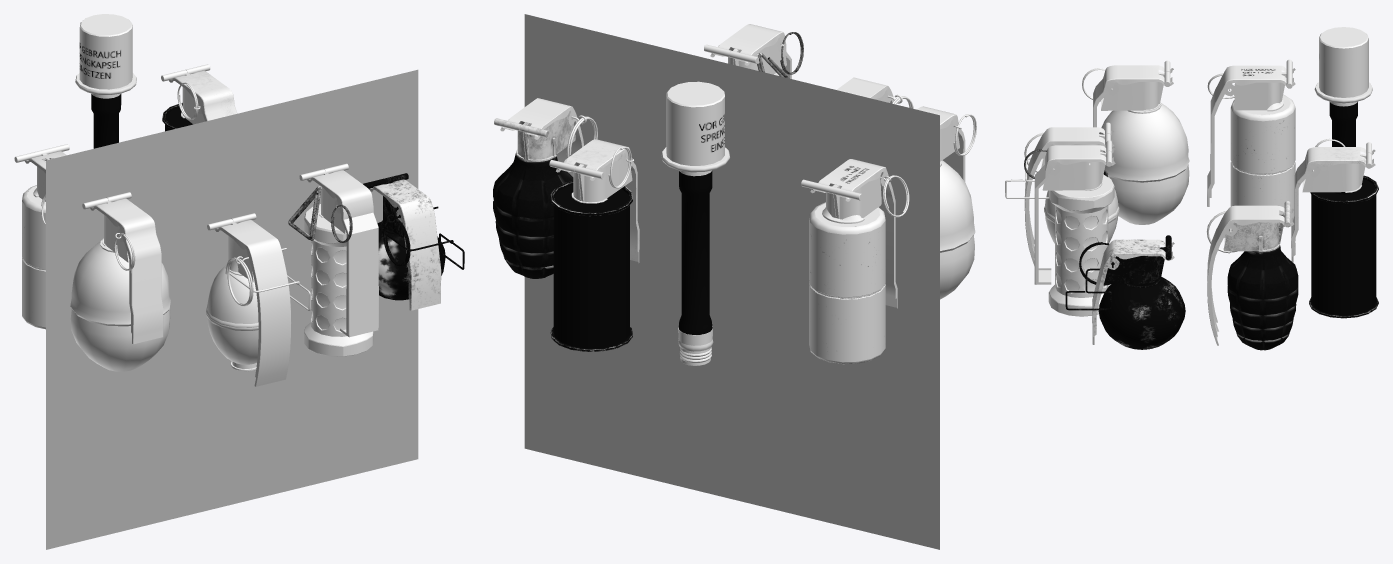
Rendered from Grenade_M18_Smoke.obj.
3 views of the same model, side by side, from view 1: azimuth 30°, elevation 25°; view 2: azimuth 150°, elevation 25°; view 3: azimuth 270°, elevation 25° (orthographic). The views are drawn at different scales.
Parts seen in each view (by area): view 1: Plane, Grenade_Illuminating, Grenade_NonLethal, Fragmentation_V1, Grenade_Fragmentation_V2, Grenade_Stick, Grenade_Offensive, Grenade_M18_Smoke; view 2: Plane, Grenade_M18_Smoke, Grenade_Offensive, Grenade_Stick, Grenade_Fragmentation_V3, Grenade_Illuminating, Grenade_NonLethal, Fragmentation_V1; view 3: Grenade_M18_Smoke, Grenade_Illuminating, Grenade_Offensive, Grenade_NonLethal, Grenade_Fragmentation_V3, Grenade_Fragmentation_V2, Grenade_Stick, Fragmentation_V1.
Part boxes in pixels (<box>): Plane: <box>46,69,418,549</box>; Grenade_Illuminating: <box>70,192,170,371</box>; Grenade_NonLethal: <box>288,163,378,356</box>; Fragmentation_V1: <box>206,213,310,386</box>; Grenade_Fragmentation_V2: <box>363,173,464,310</box>; Grenade_Stick: <box>75,14,136,148</box>; Grenade_Offensive: <box>14,144,69,329</box>; Grenade_M18_Smoke: <box>161,64,237,131</box>; Plane: <box>524,14,939,549</box>; Grenade_M18_Smoke: <box>549,139,639,351</box>; Grenade_Offensive: <box>801,159,909,364</box>; Grenade_Stick: <box>661,81,729,365</box>; Grenade_Fragmentation_V3: <box>493,98,597,278</box>; Grenade_Illuminating: <box>917,106,976,299</box>; Grenade_NonLethal: <box>704,24,803,78</box>; Fragmentation_V1: <box>837,77,913,108</box>; Grenade_M18_Smoke: <box>1291,138,1378,318</box>; Grenade_Illuminating: <box>1082,60,1189,224</box>; Grenade_Offensive: <box>1207,59,1295,226</box>; Grenade_NonLethal: <box>1024,140,1115,316</box>; Grenade_Fragmentation_V3: <box>1206,201,1298,350</box>; Grenade_Fragmentation_V2: <box>1065,235,1185,349</box>; Grenade_Stick: <box>1314,27,1372,146</box>; Fragmentation_V1: <box>1005,122,1119,265</box>.
Bounding box in the file's own units: 2 × 2.22 × 1.85.
